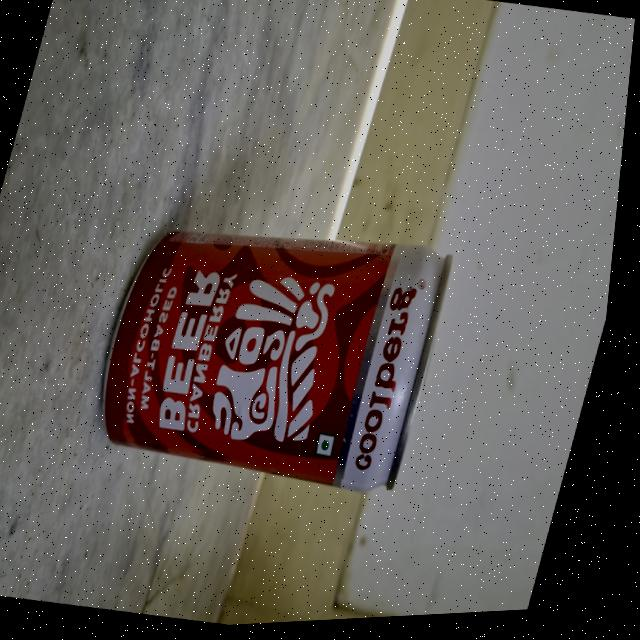Coolberg: (87, 209, 462, 516)
